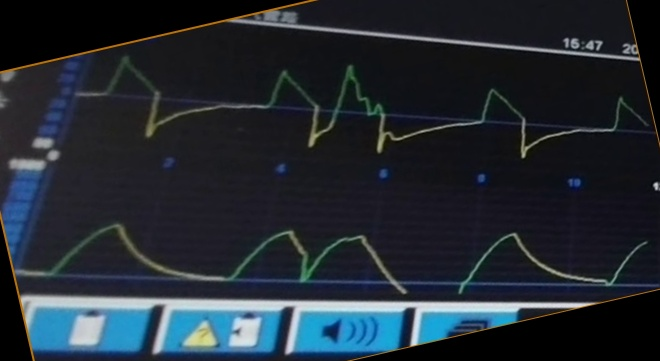Double_Triggering Flow: (96, 54, 588, 159)
Double_Triggering Volume: (48, 214, 623, 293)
